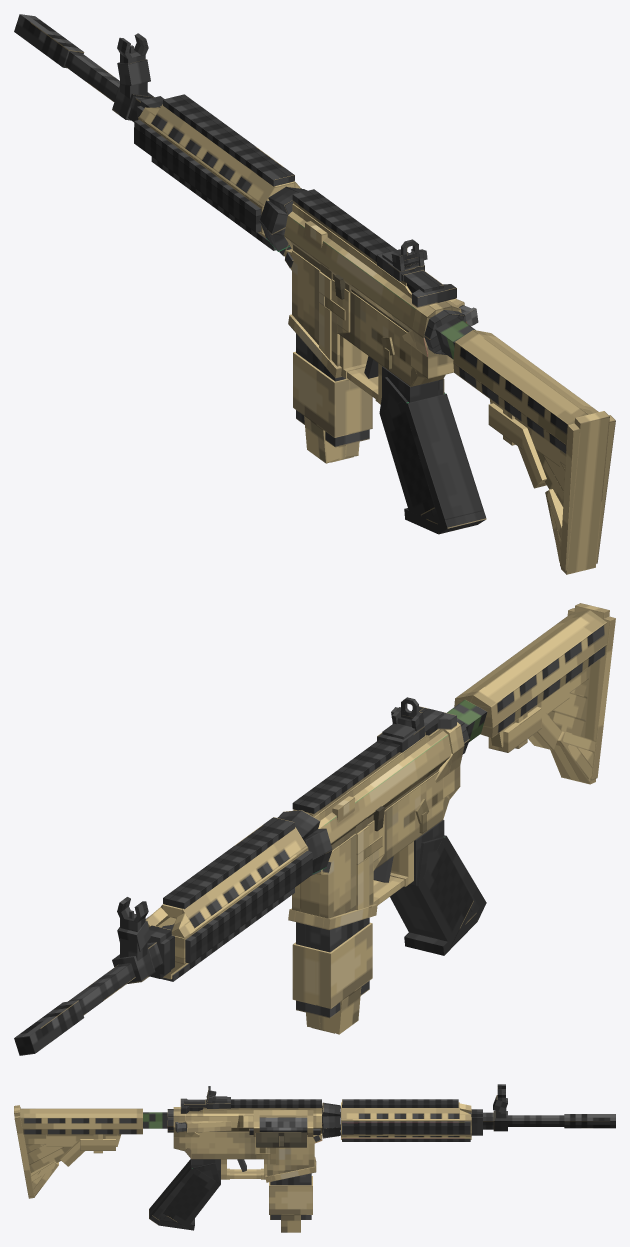
Rendered from sig xm7.obj.
3 views of the same model, one above another, from view 1: azimuth 30°, elevation 25°; view 2: azimuth 150°, elevation 25°; view 3: azimuth 270°, elevation 25° (orthographic). The views are drawn at different scales.
Parts seen in each view (by area): view 1: gun_122, stock, magazine_7; view 2: gun_122, stock, magazine_7, frontsight_11, rearsight_15; view 3: gun_122, stock, magazine_7, bolt_1.
Part boxes in pixels (x1,y1,x2,y2): gun_122: (14,14,486,534); stock: (435,317,615,574); magazine_7: (293,333,372,463); gun_122: (14,707,486,1055); stock: (447,603,615,784); magazine_7: (292,917,372,1034); frontsight_11: (117,897,148,931); rearsight_15: (391,697,424,731); gun_122: (149,1094,615,1230); stock: (14,1105,167,1198); magazine_7: (269,1173,312,1232); bolt_1: (259,1117,307,1127).
Bounding box in the file's own units: 0.4363 × 1.64 × 6.33.
